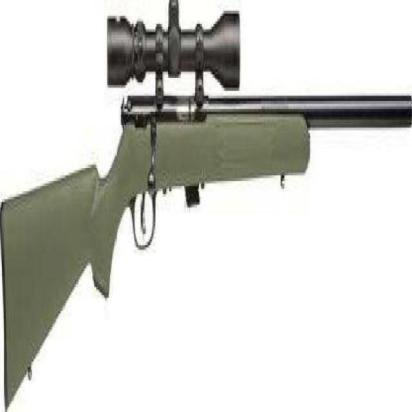Gun: (0, 5, 411, 410)
